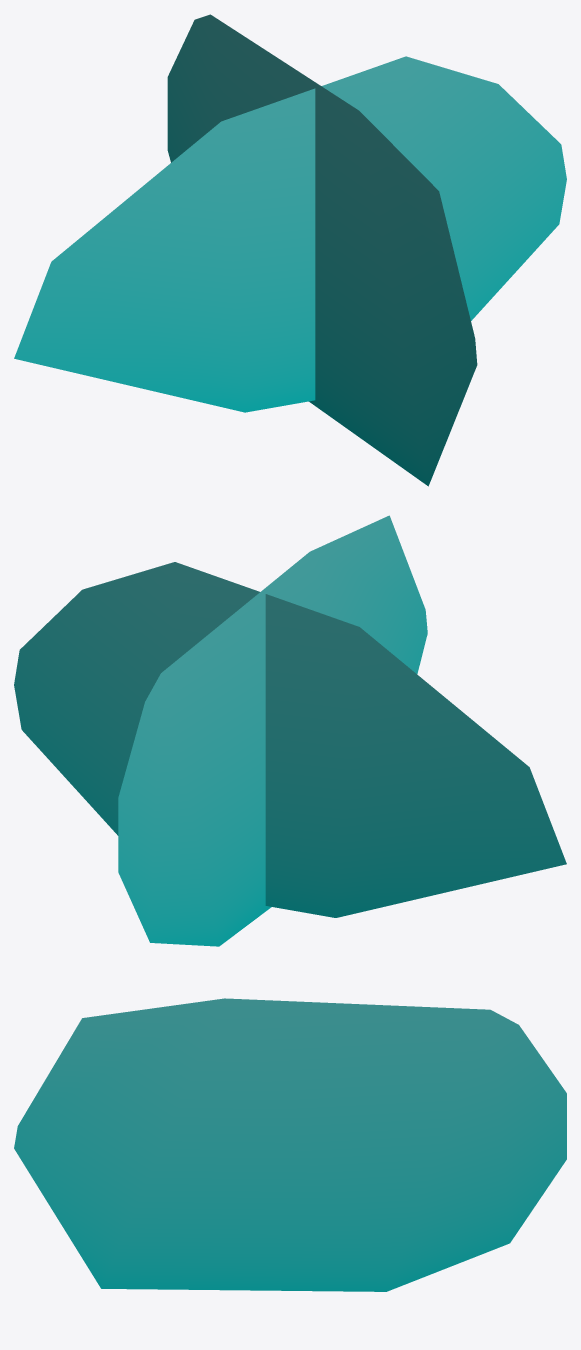
The model's file is Downy_Willow_wknlfiuqx_Mid_wknlfiuqx_VarD_LOD3.fbx.
3 views of the same model, one above another, from view 1: azimuth 30°, elevation 25°; view 2: azimuth 150°, elevation 25°; view 3: azimuth 270°, elevation 25° (orthographic). The views are drawn at different scales.
Visible parts, largest first — view 1: _5fmh_VarD_LOD6; view 2: _5fmh_VarD_LOD6; view 3: _5fmh_VarD_LOD6.
Part boxes in pixels (x1,y1,x2,y2): _5fmh_VarD_LOD6: (14, 14, 566, 486); _5fmh_VarD_LOD6: (14, 515, 566, 946); _5fmh_VarD_LOD6: (14, 998, 566, 1291).
Size of the model in its own units: 303 by 172 by 294.
